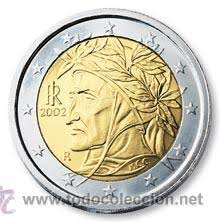eur002: (7, 6, 213, 215)
